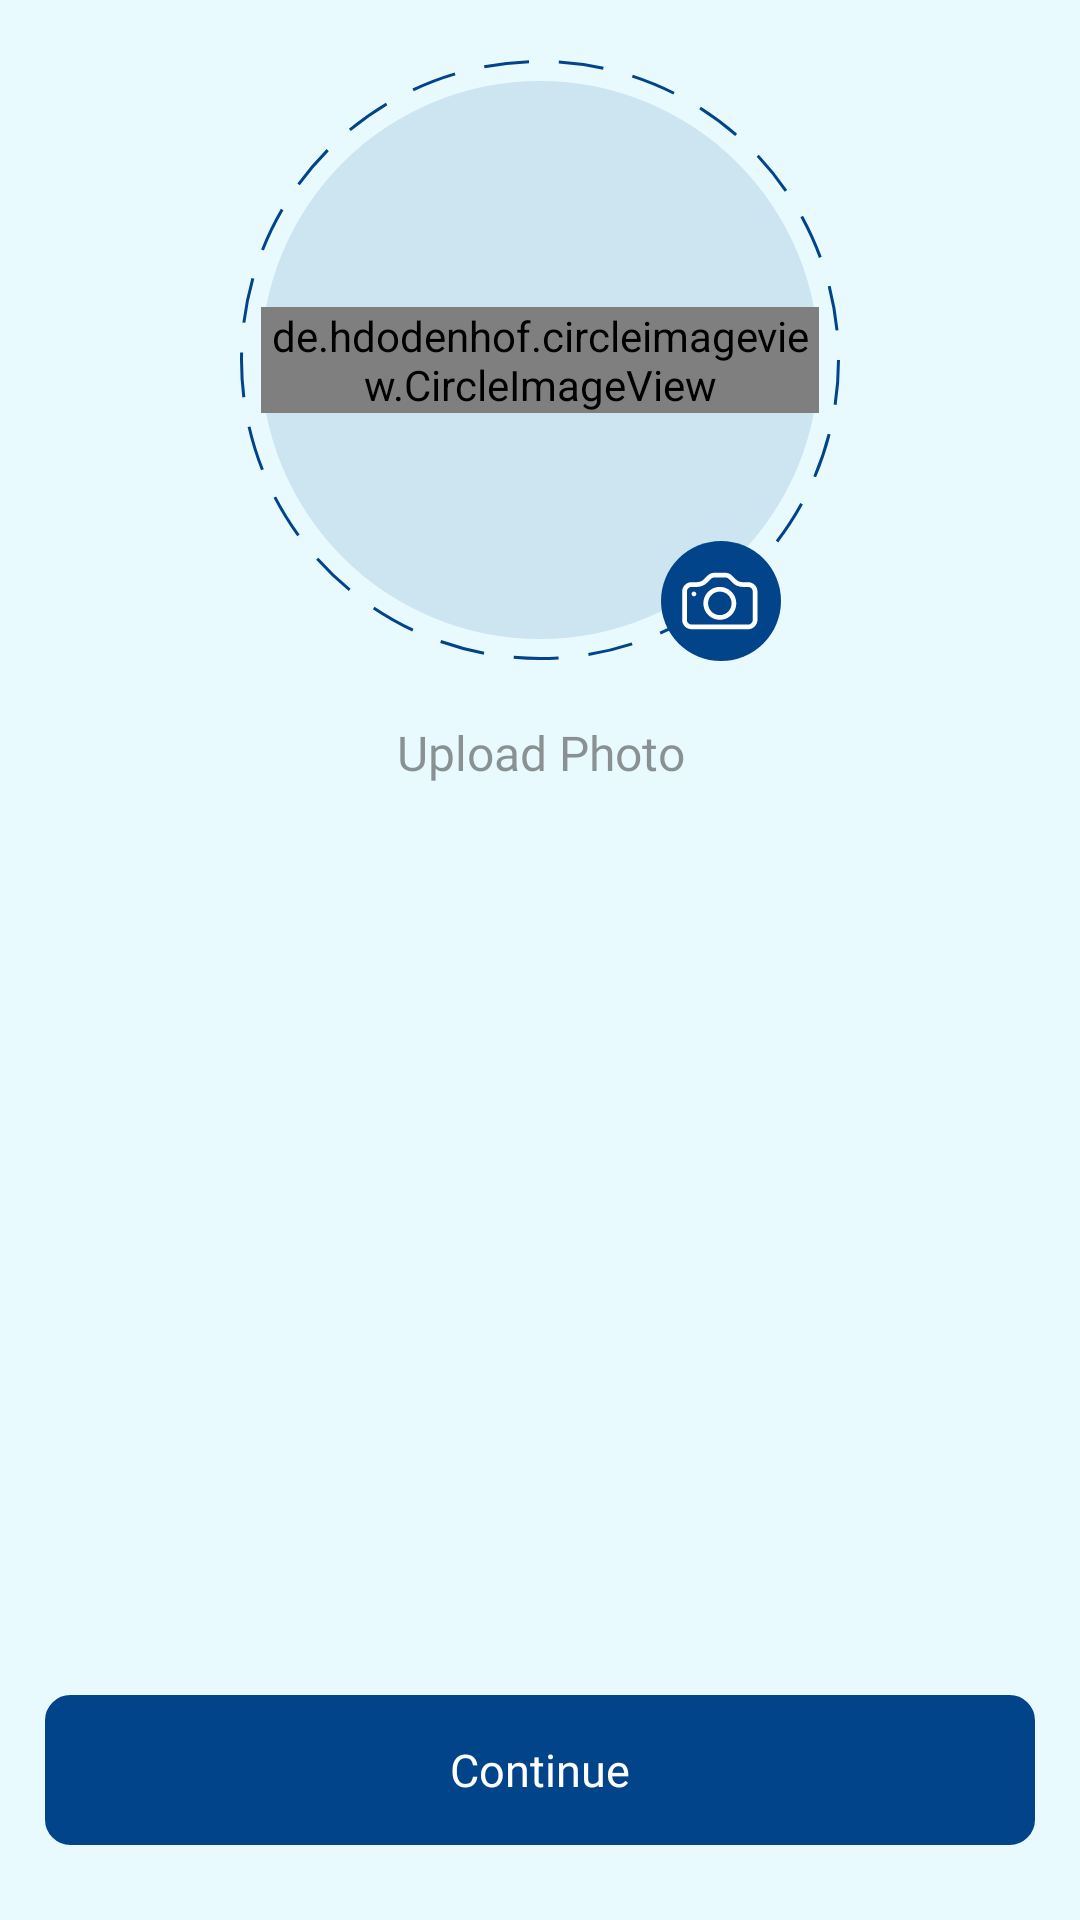

Icon bounding boxes for this 1080px x 1920px phone screenshot, format [x1=x1, y1=y1, x2=x2, y2=y2]:
camera: [x1=661, y1=541, x2=781, y2=661]
